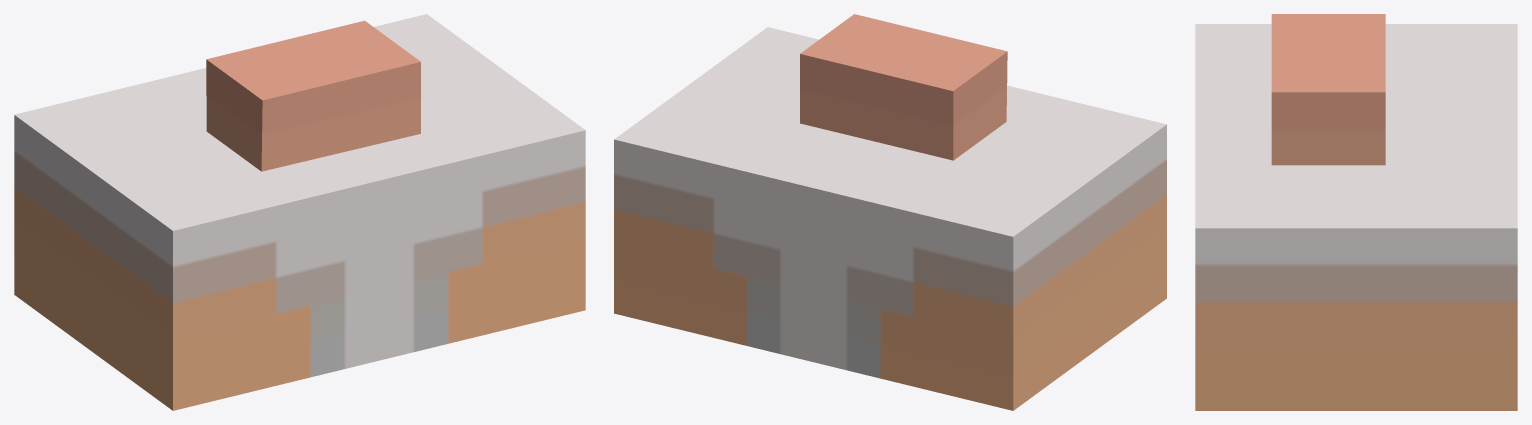
3 views of the same model, side by side, from view 1: azimuth 30°, elevation 25°; view 2: azimuth 150°, elevation 25°; view 3: azimuth 270°, elevation 25° (orthographic). The views are drawn at different scales.
Visible parts, largest first — view 1: Root021; view 2: Root021; view 3: Root021.
Boxes of the visible parts, x1,y1,x2,y2 form: Root021: (14,14,585,410); Root021: (614,14,1166,410); Root021: (1195,14,1517,410).
Bounding box in the file's own units: 12 × 7 × 8.
